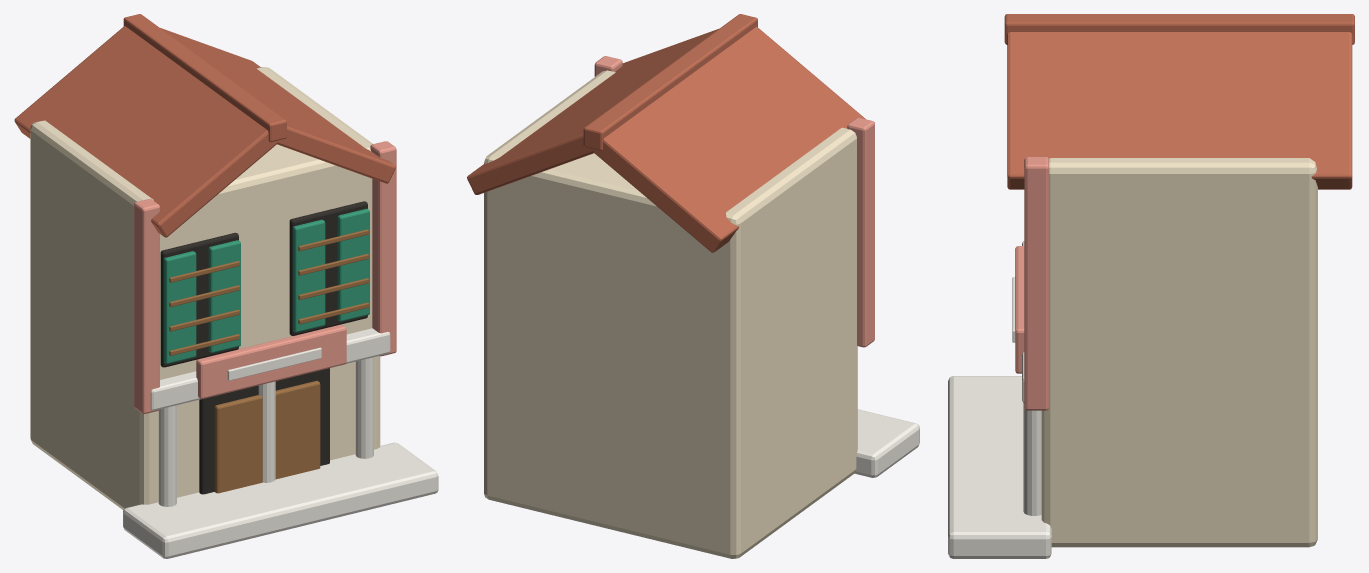
Rendered from shophouse.glb.
3 renders of one model, left to right at view 1: azimuth 30°, elevation 25°; view 2: azimuth 150°, elevation 25°; view 3: azimuth 270°, elevation 25°, orthographic. The views are drawn at different scales.
Visible parts, largest first — view 1: Facade, Tiled roof, Five foot way, Timber doors, Tiled roof.001, Signboard, Facade pilaster, Facade pilaster.001, Roof ridge, Shop opening, Shutter left, Shutter left.001 (+9 smaller); view 2: Facade, Tiled roof, Tiled roof.001, Roof ridge, Facade pilaster, Five foot way; view 3: Facade, Tiled roof.001, Five foot way, Roof ridge, Facade pilaster.001, Arcade column.002, Signboard.
Part boxes in pixels (x1,y1,x2,y2): Facade: [30, 67, 380, 510]; Tiled roof: [14, 26, 279, 237]; Five foot way: [123, 442, 438, 558]; Timber doors: [214, 380, 320, 493]; Tiled roof.001: [160, 28, 395, 183]; Signboard: [196, 324, 346, 398]; Facade pilaster: [134, 199, 159, 413]; Facade pilaster.001: [370, 141, 396, 356]; Roof ridge: [123, 14, 286, 142]; Shop opening: [199, 368, 329, 494]; Shutter left: [163, 251, 196, 363]; Shutter left.001: [292, 219, 325, 332]; Facade: [484, 70, 857, 558]; Tiled roof: [591, 27, 865, 252]; Tiled roof.001: [467, 29, 718, 194]; Roof ridge: [583, 14, 757, 150]; Facade pilaster: [847, 117, 874, 347]; Five foot way: [855, 409, 919, 477]; Facade: [1041, 158, 1317, 547]; Tiled roof.001: [1007, 32, 1352, 189]; Five foot way: [948, 376, 1051, 558]; Roof ridge: [1004, 14, 1354, 44]; Facade pilaster.001: [1024, 156, 1048, 410]; Arcade column.002: [1023, 403, 1041, 515]; Signboard: [1015, 246, 1024, 373].
Bounding box in the file's own units: 3.08 × 4.14 × 3.3.
